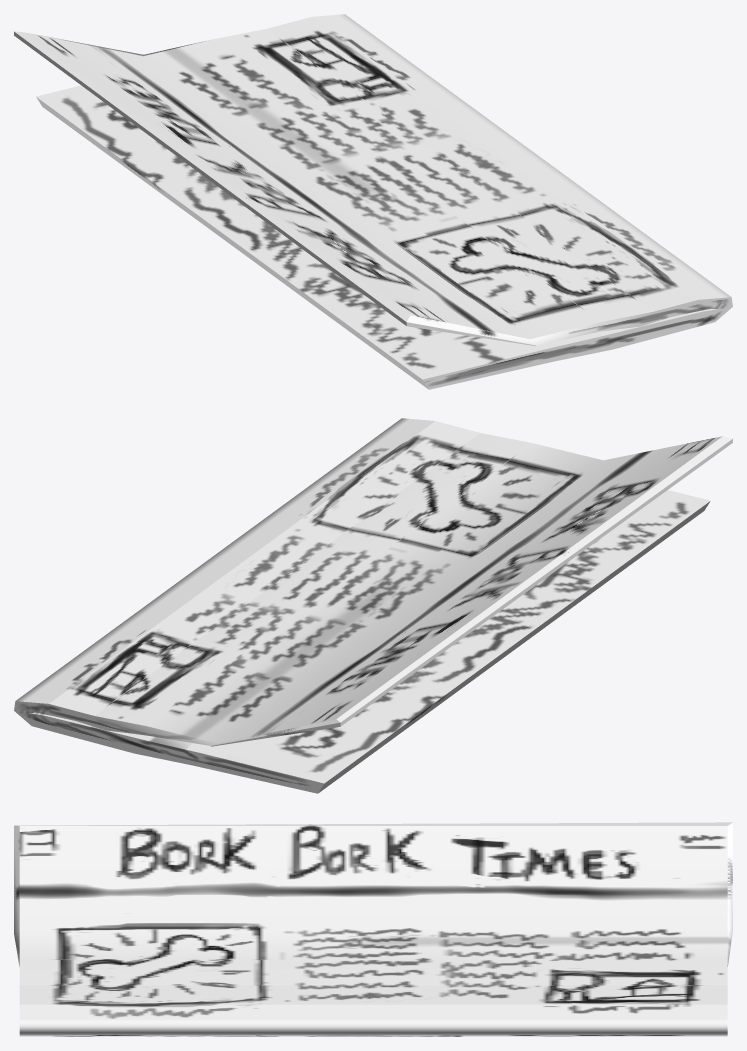
Rendered from newspaper.fbx.
3 views of the same model, one above another, from view 1: azimuth 30°, elevation 25°; view 2: azimuth 150°, elevation 25°; view 3: azimuth 270°, elevation 25° (orthographic). The views are drawn at different scales.
Visible parts, largest first — view 1: pCube1; view 2: pCube1; view 3: pCube1.
Boxes of the visible parts, box(x1,y1,x2,y2) form: pCube1: box(14, 14, 732, 389); pCube1: box(14, 418, 732, 793); pCube1: box(14, 822, 732, 1036).
Size of the model in its own units: 8.74 by 2.13 by 18.04.
